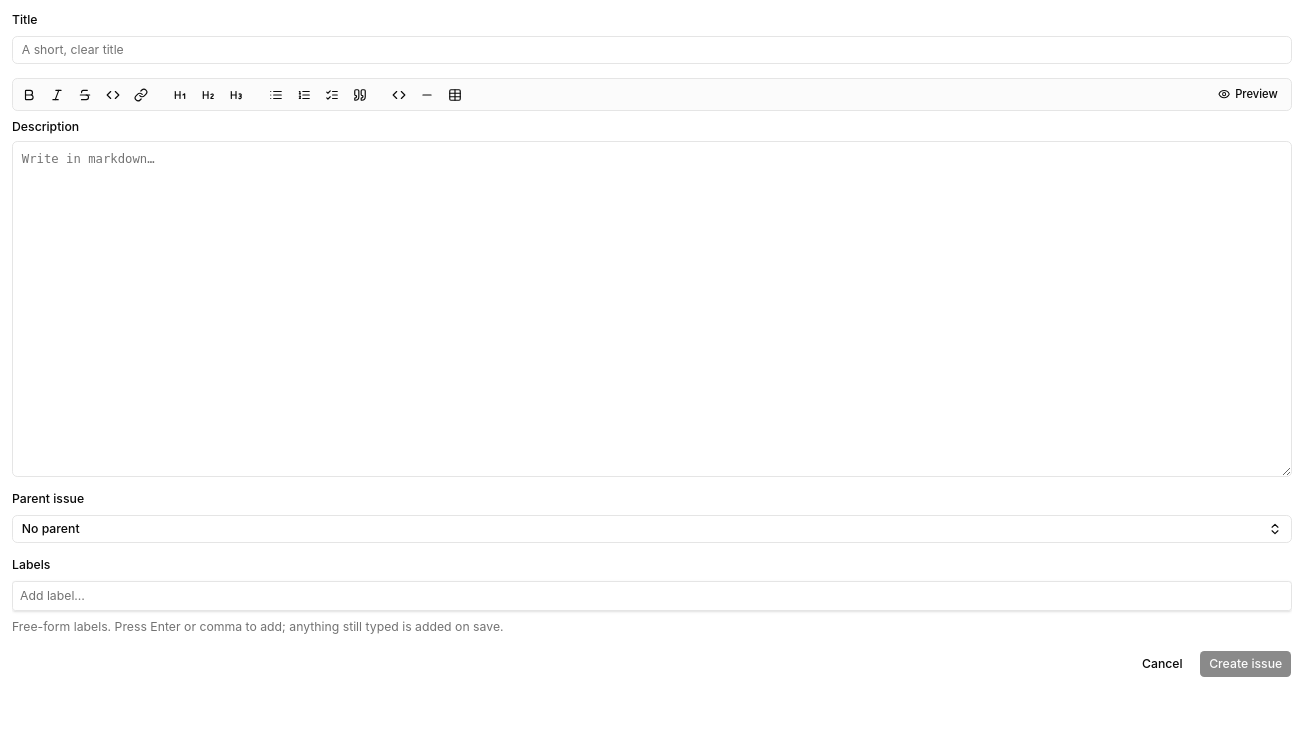
IssueForm › offers a parent from open issues only, with no status filter
Click the button with aria-label "select parent issue": (51, 529) x1=12 y1=515 x2=1292 y2=543
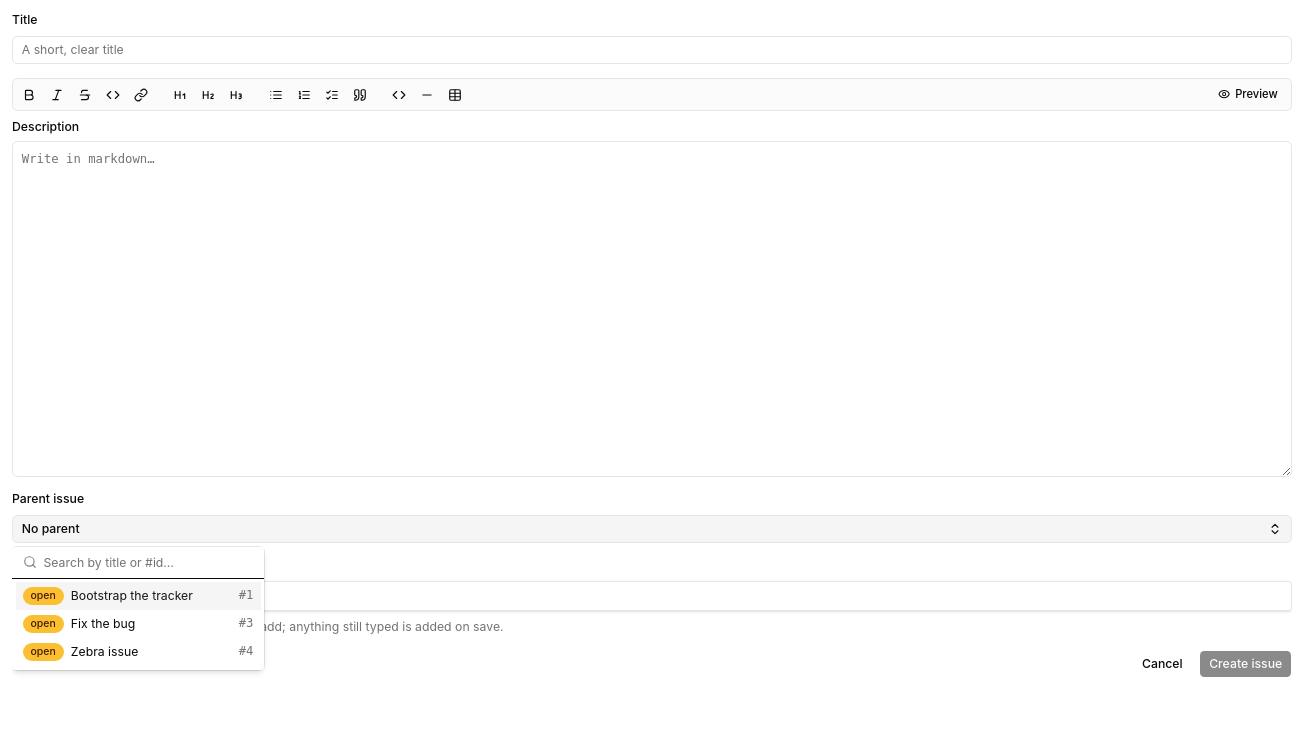
Now the text "#3" is shown, box x1=239 y1=615 x2=254 y2=633
